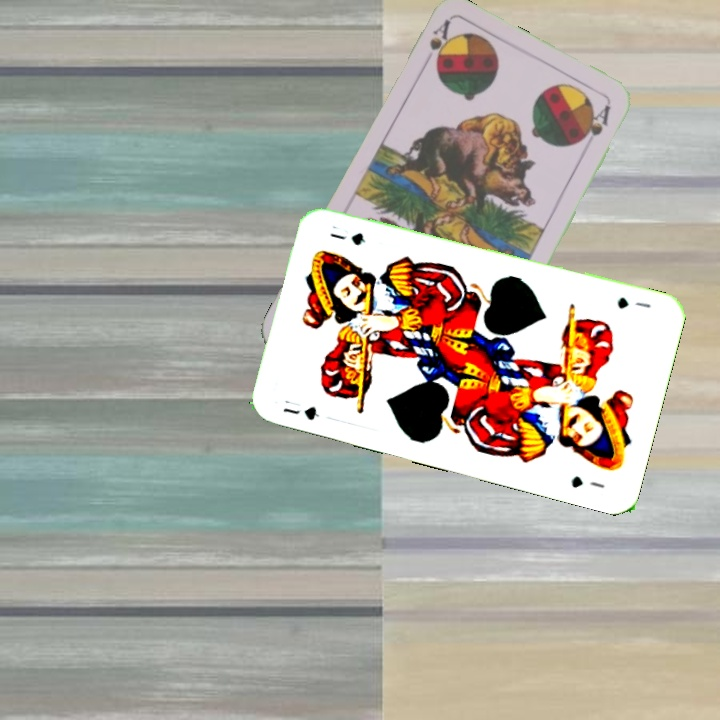GU: (279, 395, 321, 423), (613, 292, 653, 312)
SA: (418, 16, 453, 72)
